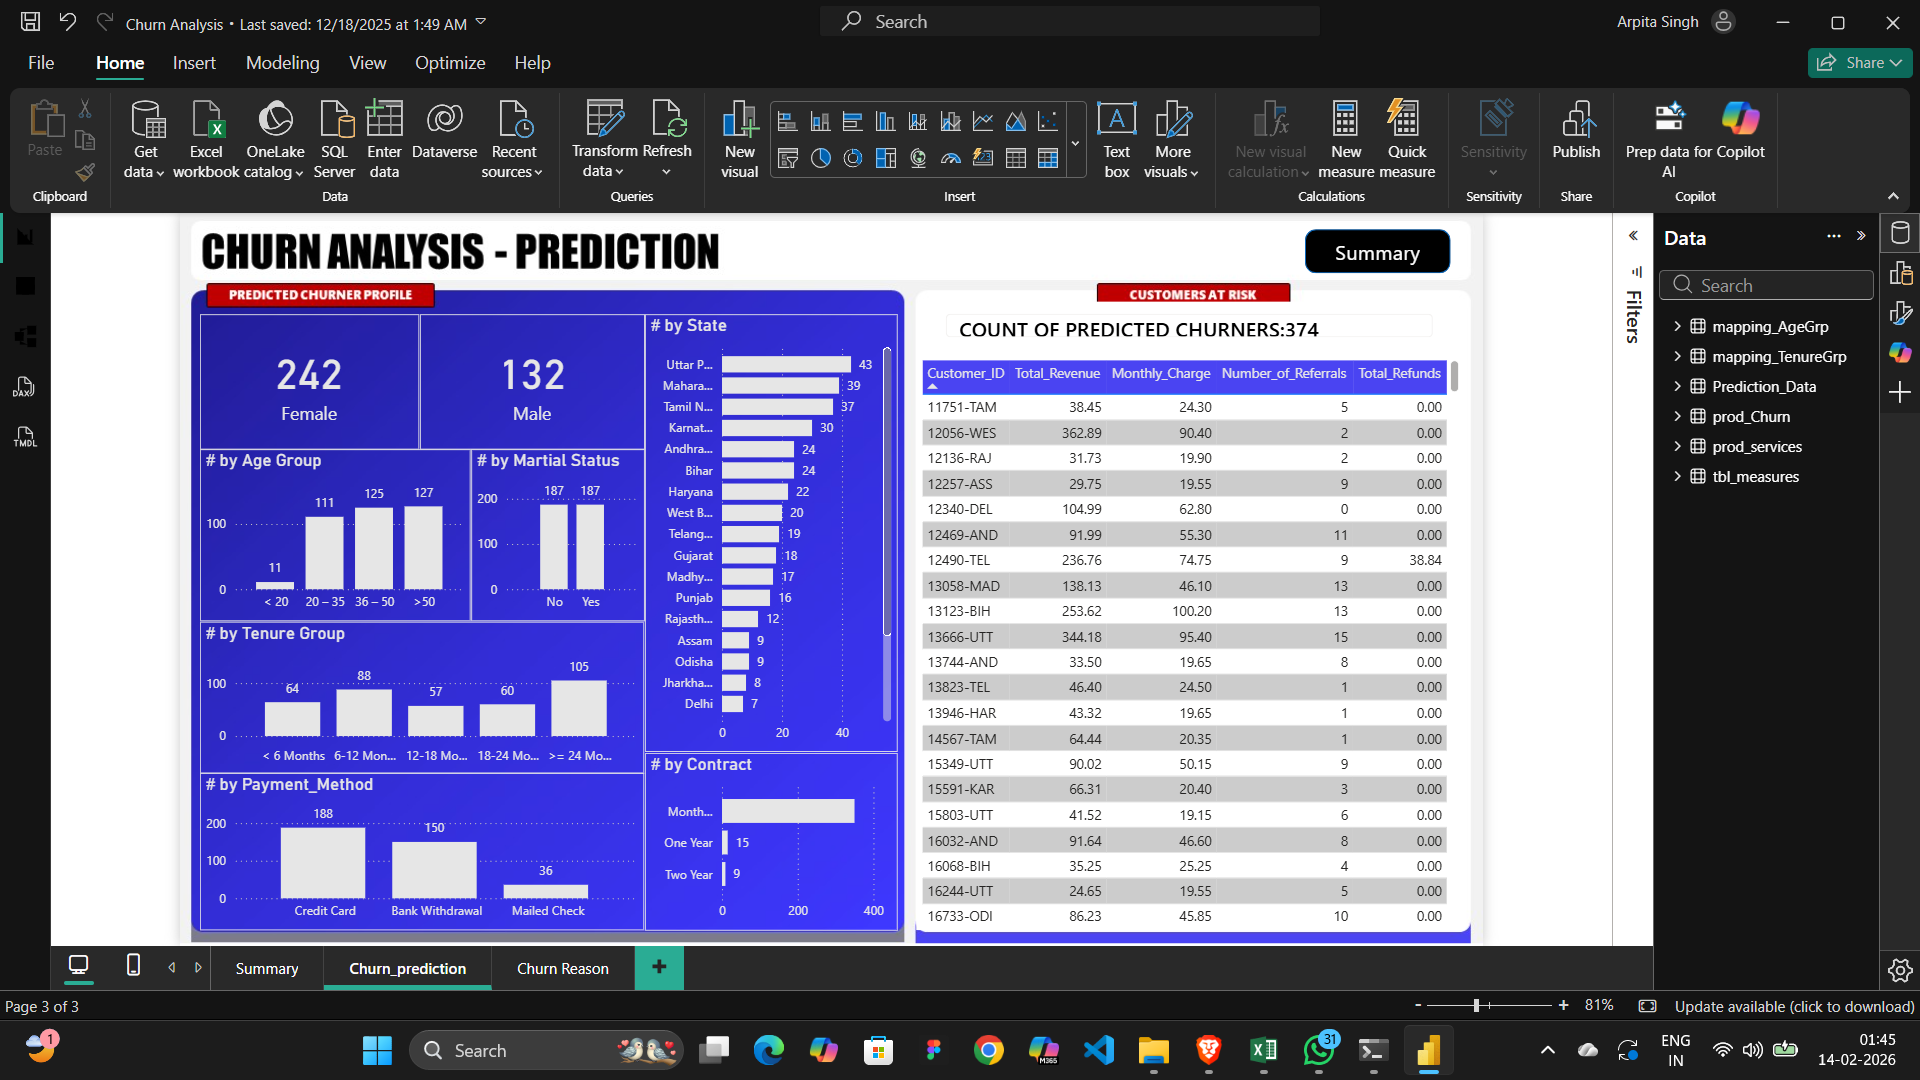

Layout of this report page (visuals, bound fields, positions):
{"tool":"powerbi","page":{"name":"Churn_prediction","canvas":[1280,720],"ordinal":2},"visuals":[{"type":"tableEx","fields":{"Values":["Prediction_Data.Customer_ID","Prediction_Data.Total_Revenue","Prediction_Data.Monthly_Charge","Prediction_Data.Number_of_Referrals","Prediction_Data.Total_Refunds"]},"box":[722.8,139.9,538.2,564.1],"z":0},{"type":"cardVisual","fields":{"Data":["tbl_measures.Title Predicted Churn"]},"box":[734.4,82.2,512.2,57.7],"z":1000},{"type":"card","fields":{"Values":["tbl_measures.Count Predicted Churner"]},"box":[20.2,99.6,215,132.7],"z":2000},{"type":"card","fields":{"Values":["tbl_measures.Count Predicted Churner"]},"box":[235.2,99.6,220.7,132.7],"z":3000},{"type":"clusteredColumnChart","fields":{"Category":["mapping_AgeGrp.Age Group"],"Y":["CountNonNull(Prediction_Data.Customer_ID)"]},"box":[20.2,232.3,265.5,168.8],"z":4000},{"type":"clusteredColumnChart","fields":{"Category":["Prediction_Data.Married"],"Y":["CountNonNull(Prediction_Data.Customer_ID)"]},"box":[285.7,232.3,170.2,168.8],"z":5000},{"type":"clusteredColumnChart","fields":{"Y":["CountNonNull(Prediction_Data.Customer_ID)"],"Category":["mapping_TenureGrp.Tenure Group"]},"box":[20.2,401.1,435.7,148.6],"z":6000},{"type":"clusteredColumnChart","fields":{"Y":["CountNonNull(Prediction_Data.Customer_ID)"],"Category":["Prediction_Data.Payment_Method"]},"box":[20.2,549.7,435.7,154.4],"z":7000},{"type":"clusteredBarChart","fields":{"Category":["Prediction_Data.Contract"],"Y":["CountNonNull(Prediction_Data.Customer_ID)"]},"box":[455.9,529.5,248.2,174.6],"z":8000},{"type":"clusteredBarChart","fields":{"Category":["Prediction_Data.State"],"Y":["CountNonNull(Prediction_Data.Customer_ID)"]},"box":[455.9,99.6,248.2,429.9],"z":9000},{"type":"shape","box":[1103.7,15.9,142.8,43.3],"z":9001}]}

Visuals, with their boxes on the page's 1280x720 design canvas (x1, y1, x2, y2). These are canvas units, not pixel positions in the 1920x1080 screenshot, which may show the page scaled, cropped or inside an application window:
tableEx - Prediction_Data.Customer_ID x Prediction_Data.Total_Revenue: [723, 140, 1261, 704]
cardVisual - tbl_measures.Title Predicted Churn: [734, 82, 1247, 140]
card - tbl_measures.Count Predicted Churner: [20, 100, 235, 232]
card - tbl_measures.Count Predicted Churner: [235, 100, 456, 232]
clusteredColumnChart - mapping_AgeGrp.Age Group x CountNonNull(Prediction_Data.Customer_ID): [20, 232, 286, 401]
clusteredColumnChart - Prediction_Data.Married x CountNonNull(Prediction_Data.Customer_ID): [286, 232, 456, 401]
clusteredColumnChart - CountNonNull(Prediction_Data.Customer_ID) x mapping_TenureGrp.Tenure Group: [20, 401, 456, 550]
clusteredColumnChart - CountNonNull(Prediction_Data.Customer_ID) x Prediction_Data.Payment_Method: [20, 550, 456, 704]
clusteredBarChart - Prediction_Data.Contract x CountNonNull(Prediction_Data.Customer_ID): [456, 530, 704, 704]
clusteredBarChart - Prediction_Data.State x CountNonNull(Prediction_Data.Customer_ID): [456, 100, 704, 530]
shape: [1104, 16, 1246, 59]
